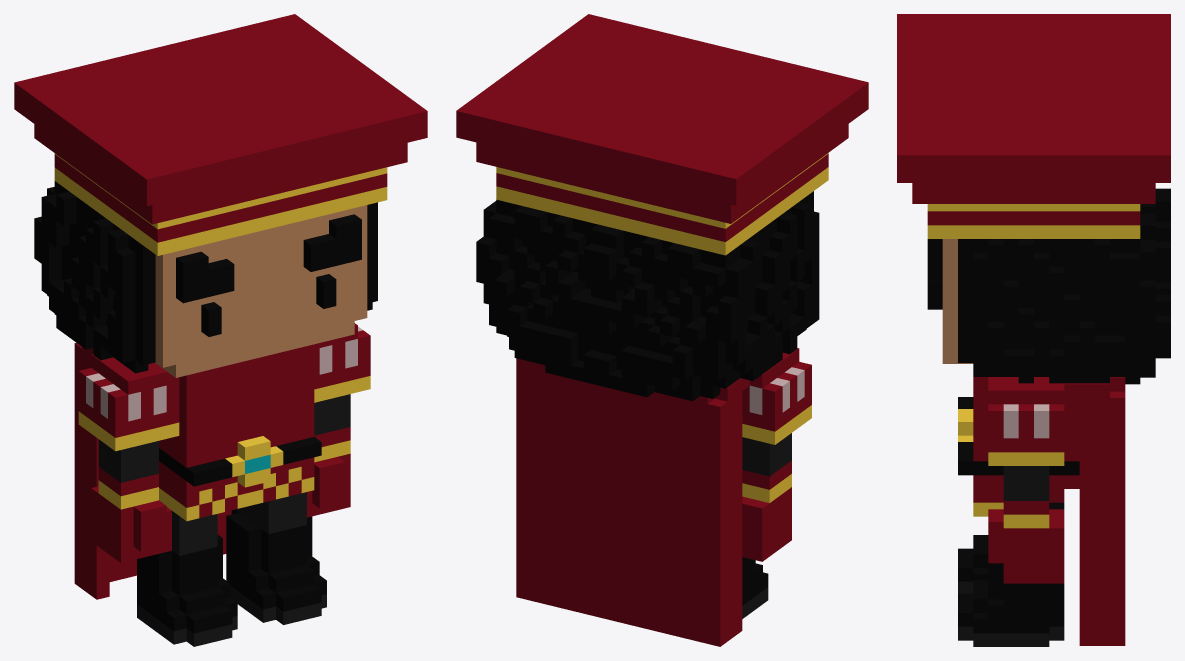
File: asset.glb
The picture shows the model from 3 angles, left to right: view 1: azimuth 30°, elevation 25°; view 2: azimuth 150°, elevation 25°; view 3: azimuth 270°, elevation 25°; orthographic projection. The views are drawn at different scales.
Visible parts, largest first — view 1: Cube.2790; view 2: Cube.2790; view 3: Cube.2790.
Boxes of the visible parts, left/top/right/bottom form: Cube.2790: left=14, top=14, right=427, bottom=646; Cube.2790: left=456, top=14, right=868, bottom=646; Cube.2790: left=897, top=14, right=1170, bottom=646.
Bounding box in the file's own units: 22 × 38 × 18.
